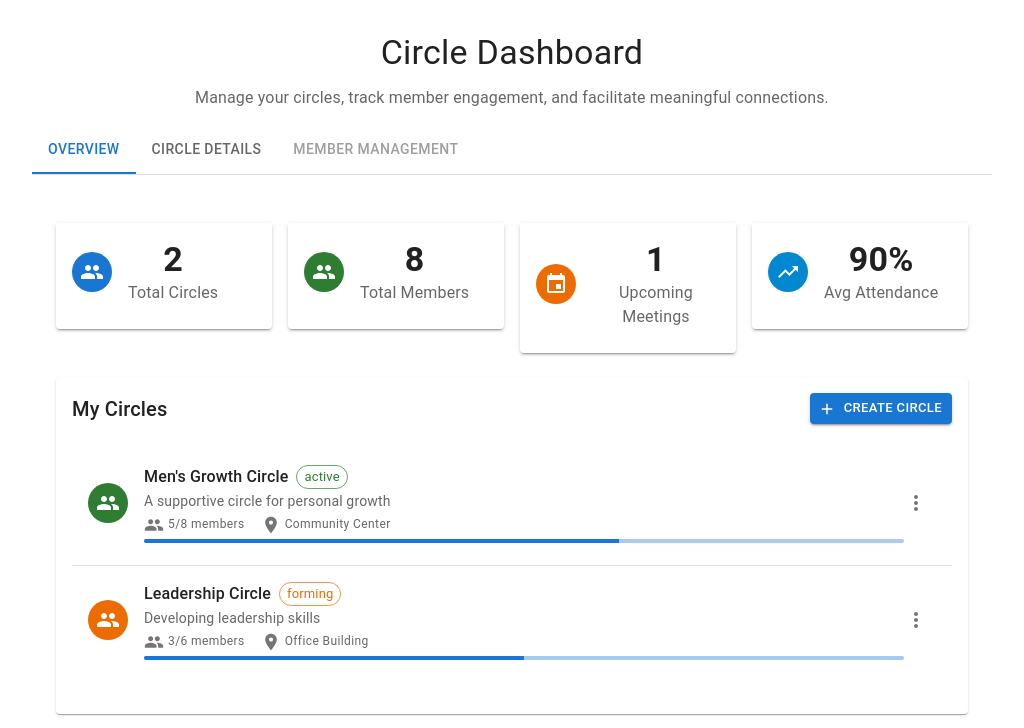
Test case: CircleDashboard › Circle Selection and Detail View › should display circle detail information correctly
The image size is (1024, 728).
Select a circle first
Click the heading "Men's Growth Circle" at (216, 477), box [144,463,288,491]
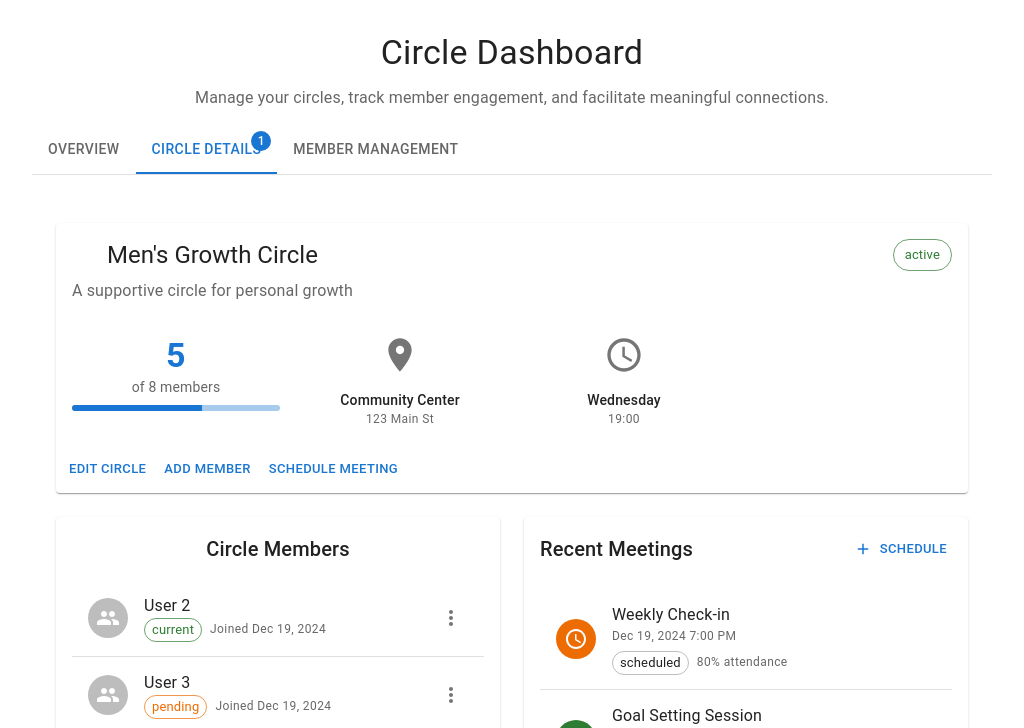
Now the text "of 8 members" is shown, box [132,379,220,395]
Now the text "123 Main St" is shown, box [366,412,434,426]
Now the text "Wednesday" is shown, box [587,392,661,408]
